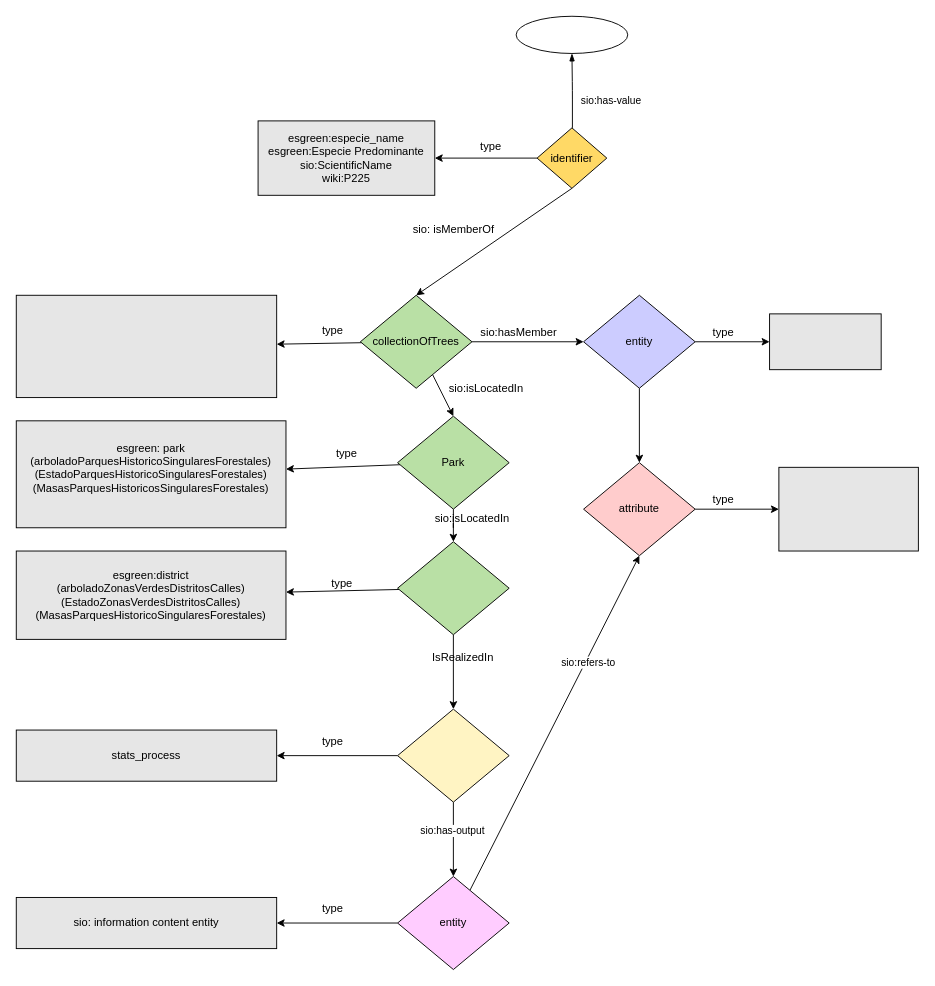
The diagram is 935 pixels wide and 986 high, and some of its shapes have lost their labels. The box of each missing label's shape, as (x1, y1, x2, y2) in pixels:
biologicalEntity: (769, 313, 881, 370)
District: (397, 541, 509, 635)
gbif_000008: (515, 15, 628, 53)
Process: (397, 708, 509, 802)
sio:collection esgreen:memberofEspecies: (15, 294, 277, 398)
Total Count Units Mean Height sio: DimensionalQuantity LifeStatus: (778, 466, 918, 551)
